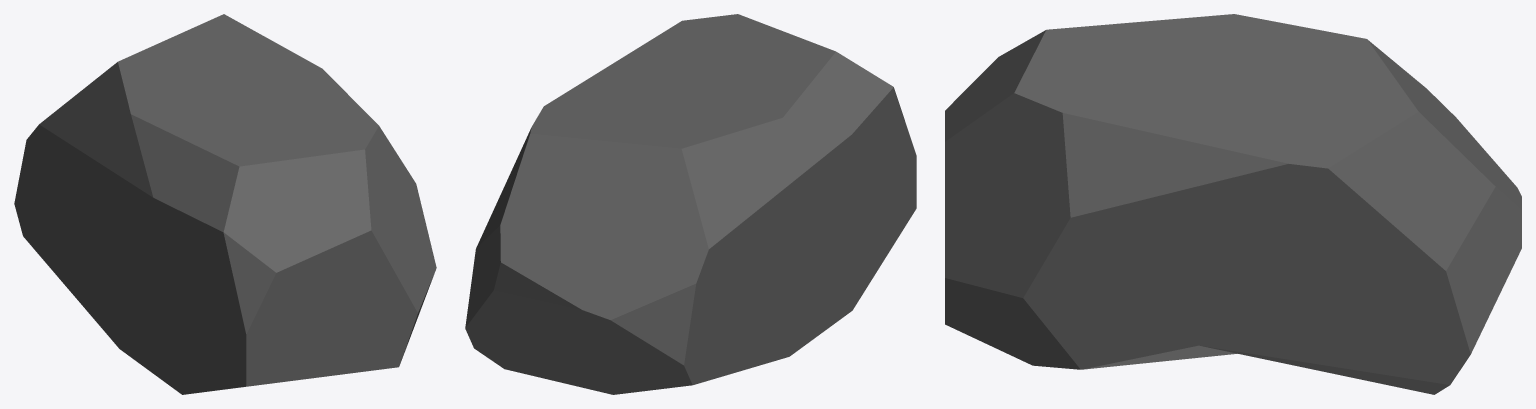
The model's file is stone_gray_1.fbx.
3 renders of one model, left to right at view 1: azimuth 30°, elevation 25°; view 2: azimuth 150°, elevation 25°; view 3: azimuth 270°, elevation 25°, orthographic. The views are drawn at different scales.
Visible parts, largest first — view 1: Cube.001; view 2: Cube.001; view 3: Cube.001.
Part boxes in pixels (x1,y1,x2,y2): Cube.001: [14, 14, 436, 394]; Cube.001: [465, 14, 916, 394]; Cube.001: [945, 14, 1521, 394].
Size of the model in its own units: 88.38 by 83.13 by 160.
